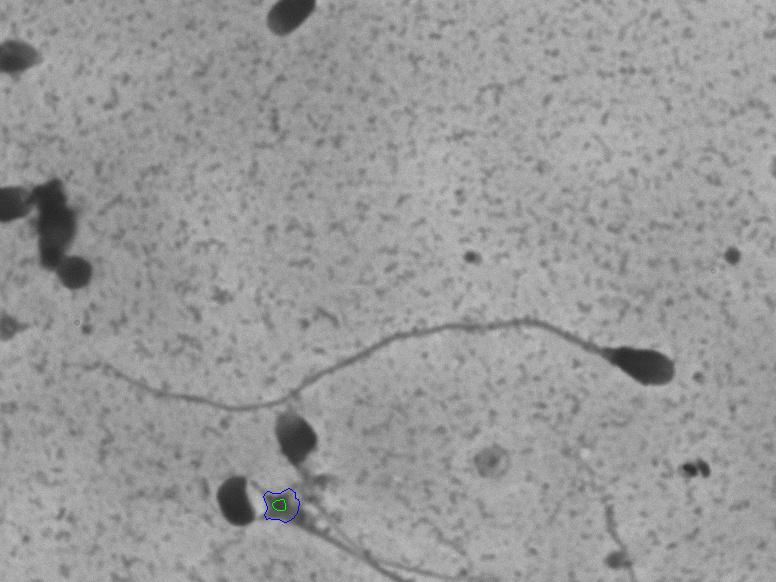Abnormal: (80, 254, 687, 416)
